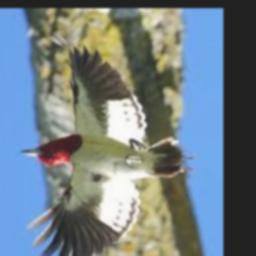Woodpecker: (20, 37, 192, 256)
